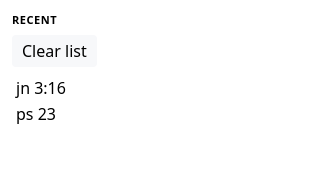
Test: RecentList Clear list › asks before clearing, with the number of entries
The width and height of the screenshot is (332, 172).
Click the button "Clear list".
click(54, 51)  # box x1=12 y1=35 x2=97 y2=67
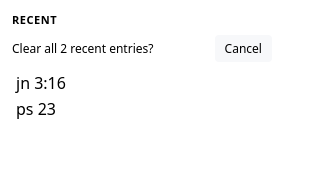
Check: the text "Clear all 2 recent entries?" is shown, box x1=12 y1=40 x2=154 y2=57
